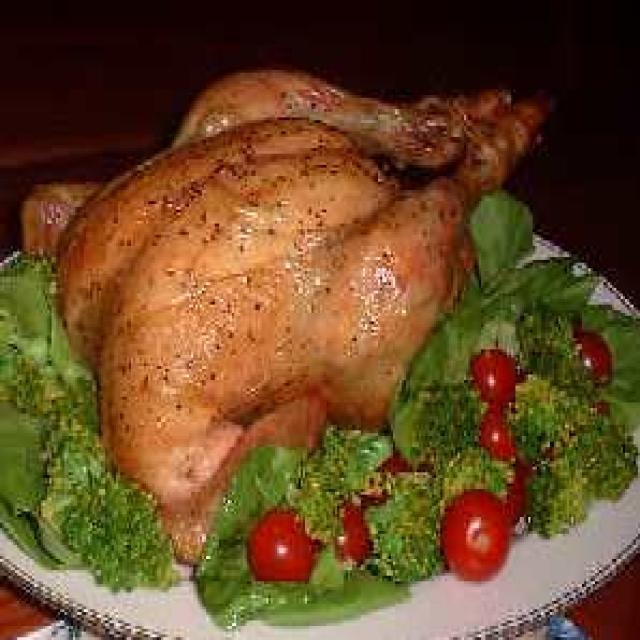Chicken: (58, 72, 530, 452)
Green Salad: (276, 224, 630, 610)
